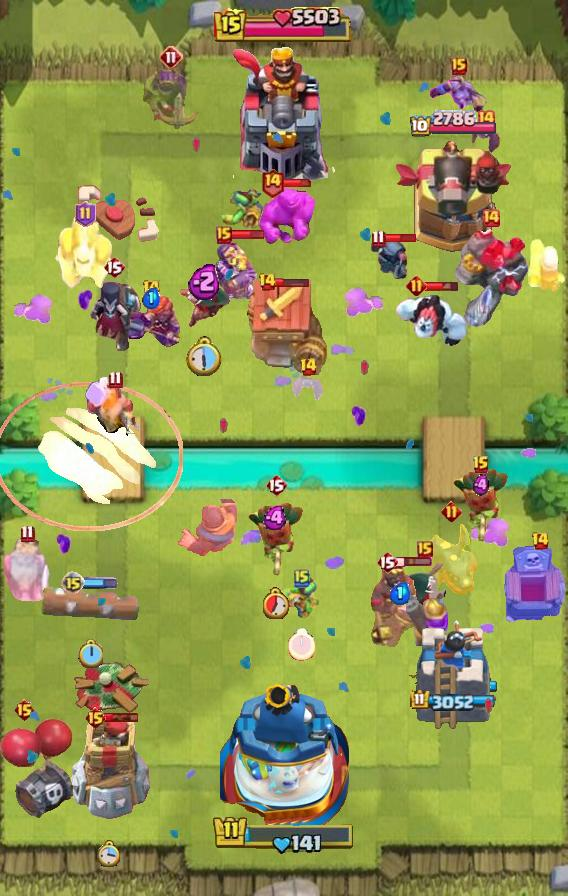bandit: (402, 561, 448, 625), (177, 280, 233, 328)
bar: (396, 556, 433, 568), (82, 577, 118, 589), (425, 280, 460, 292), (275, 276, 310, 288), (383, 232, 418, 244), (104, 712, 139, 723), (230, 229, 265, 240), (282, 178, 314, 188)
bar-level: (260, 167, 285, 198), (61, 571, 85, 595), (159, 45, 183, 69), (84, 706, 107, 730), (13, 698, 36, 722), (75, 201, 96, 227), (376, 550, 398, 574), (265, 473, 287, 497), (103, 255, 125, 279), (441, 501, 462, 522), (406, 275, 427, 296), (481, 208, 501, 228), (476, 109, 496, 129), (531, 531, 550, 551), (299, 357, 318, 377), (142, 279, 161, 299), (258, 272, 277, 292), (472, 455, 490, 475), (294, 568, 310, 588), (417, 541, 433, 559), (216, 226, 232, 244), (451, 57, 467, 75), (20, 524, 35, 543), (108, 370, 123, 389), (371, 229, 386, 248)
bat: (469, 122, 503, 154), (292, 373, 324, 403)
cannoneer-tower: (392, 138, 514, 256)
clock: (186, 336, 224, 377), (288, 628, 316, 661), (263, 587, 290, 619), (78, 639, 103, 668), (97, 840, 121, 867)
dart-goblin: (246, 500, 306, 576), (451, 466, 511, 542)
electro-dragon: (423, 522, 479, 598)
elixir: (188, 262, 222, 300), (263, 506, 289, 530), (390, 582, 411, 605), (142, 287, 160, 309), (473, 474, 489, 496)
elixir-golem-mid: (259, 186, 315, 246)
firecracker: (526, 236, 568, 294)
king-tower: (220, 678, 349, 826), (230, 45, 338, 181)
king-tower-bar: (212, 814, 356, 856), (214, 7, 355, 45)
knight: (177, 499, 238, 556)
knight-evolution: (213, 239, 258, 302)
lumberjack: (84, 377, 146, 443)
mega-minion: (55, 216, 115, 294)
mini-pekka: (368, 235, 412, 283)
minion: (428, 76, 490, 114)
musketeer: (406, 595, 448, 649)
night-witch: (85, 279, 143, 351)
queen-tower: (409, 616, 497, 731)
royal-ghost: (0, 536, 54, 602)
spear-goblin: (278, 576, 326, 620), (217, 187, 265, 229)
the-log: (40, 584, 140, 622)
tower-bar: (409, 110, 498, 139), (410, 689, 496, 711)
valkyrie-evolution: (119, 292, 183, 350)
